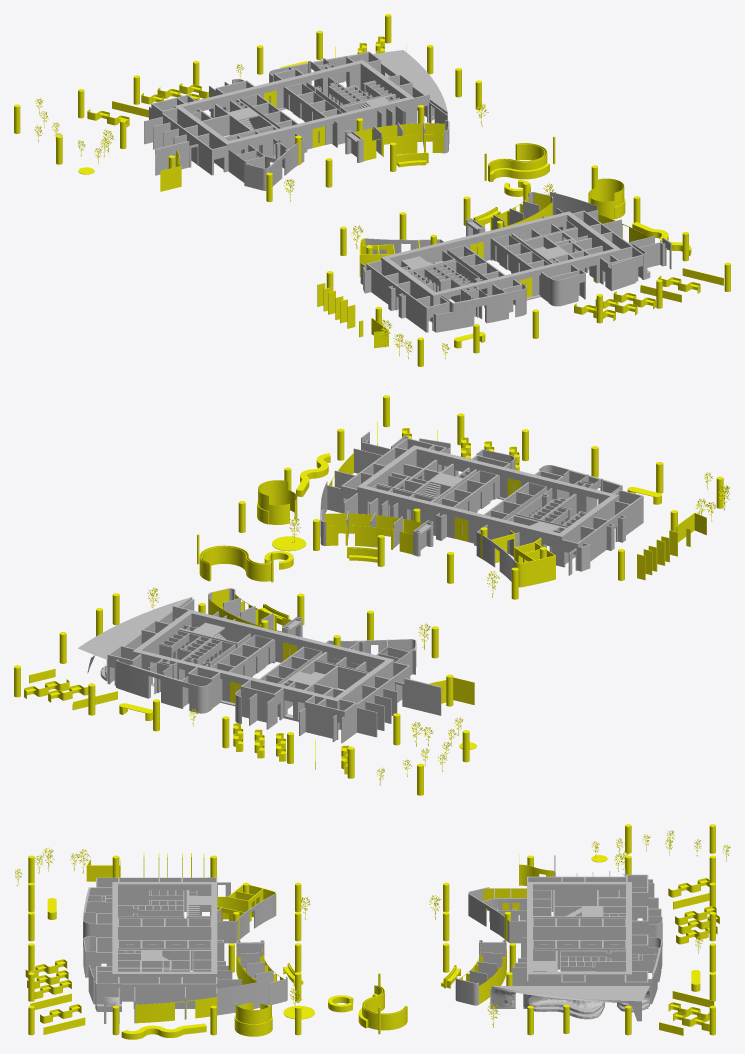
File: sm_hana_building_7f_in.glb
The picture shows the model from 3 angles, top to bottom: view 1: azimuth 30°, elevation 25°; view 2: azimuth 150°, elevation 25°; view 3: azimuth 270°, elevation 25°; orthographic projection. The views are drawn at different scales.
Parts seen in each view (by area): view 1: sm_hana_building_7f_in; view 2: sm_hana_building_7f_in; view 3: sm_hana_building_7f_in.
Part boxes in pixels (x1=…): sm_hana_building_7f_in: x1=14, y1=14, x2=730, y2=366; sm_hana_building_7f_in: x1=14, y1=395, x2=729, y2=795; sm_hana_building_7f_in: x1=15, y1=824, x2=730, y2=1039.
Size of the model in its own units: 60.48 by 4.61 by 96.83.
Materials: 9 (7 with a texture image).
